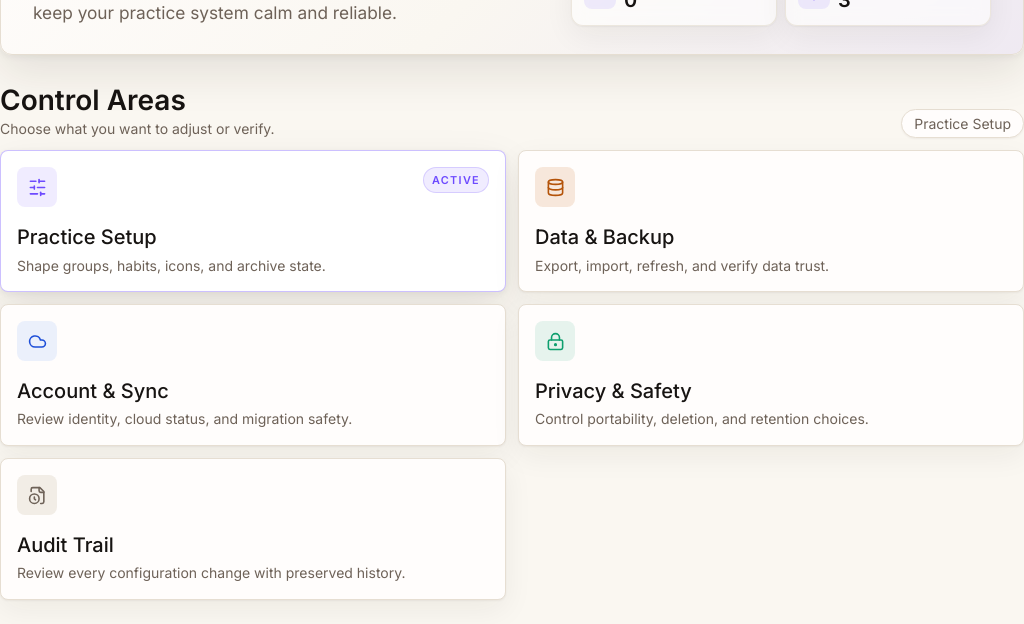
SettingsScreen › shows the audit log section from Settings
Click the button with aria-label "Audit Log". click: (37, 495)
box: [0,458,506,600]
(page scrolled)
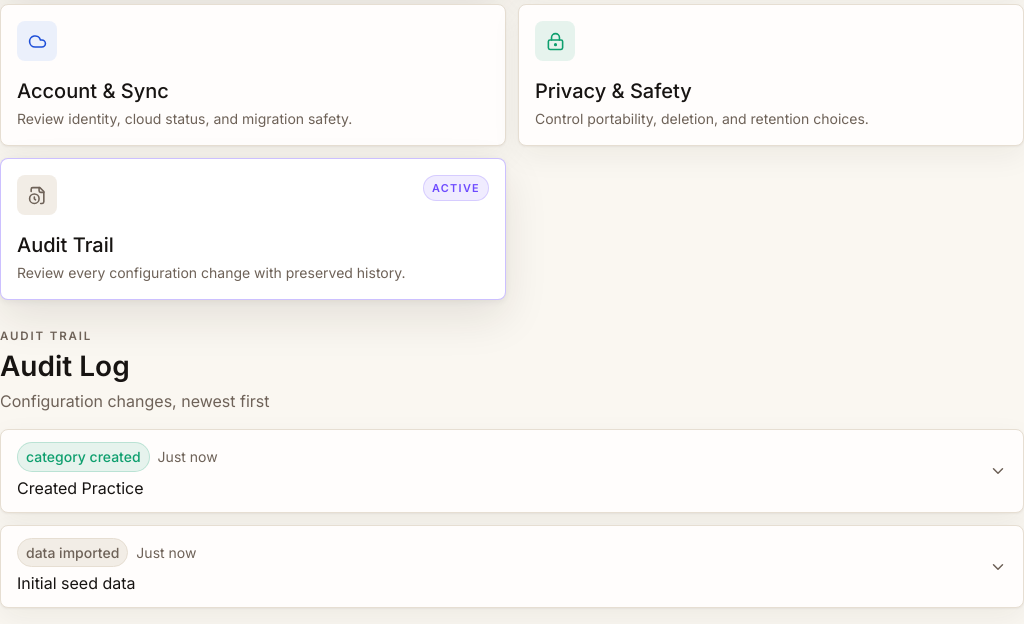
Expected: the heading "Audit Log" is shown, [0,349,130,383]
Expected: the text "Created Practice" is shown, [17,478,144,498]
